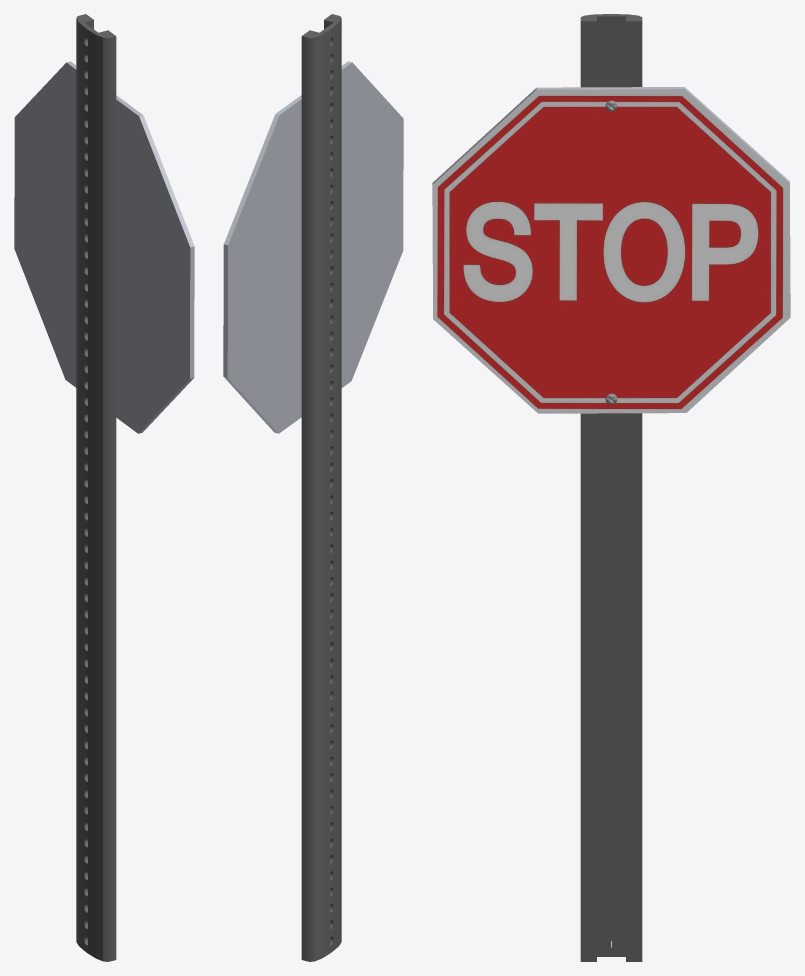
File: StopSign.fbx
The picture shows the model from 3 angles, left to right: view 1: azimuth 30°, elevation 25°; view 2: azimuth 150°, elevation 25°; view 3: azimuth 270°, elevation 25°; orthographic projection.
Parts seen in each view (by area): view 1: Post, Circle; view 2: Post, Circle; view 3: Circle, Post.
Boxes of the visible parts, x1,y1,x2,y2 form: Post: [76, 14, 116, 961]; Circle: [14, 61, 194, 433]; Post: [301, 14, 341, 961]; Circle: [223, 61, 403, 433]; Circle: [432, 87, 790, 413]; Post: [580, 14, 642, 961].
Size of the model in its own units: 66.45 by 2524 by 871.
